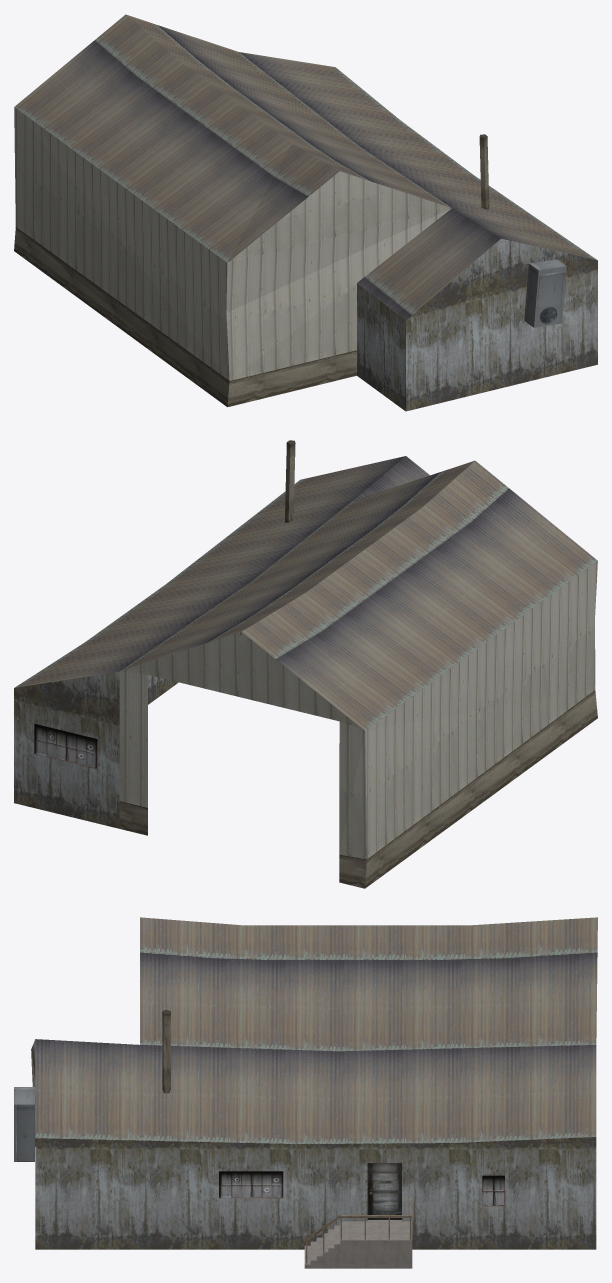
Rendered from cxf_payspray_.obj.
The picture shows the model from 3 angles, top to bottom: view 1: azimuth 30°, elevation 25°; view 2: azimuth 150°, elevation 25°; view 3: azimuth 270°, elevation 25°; orthographic projection. The views are drawn at different scales.
Visible parts, largest first — view 1: cxf_payspray_; view 2: cxf_payspray_; view 3: cxf_payspray_.
Boxes of the visible parts, left/top/right/bottom form: cxf_payspray_: left=14, top=14, right=597, bottom=411; cxf_payspray_: left=14, top=440, right=597, bottom=888; cxf_payspray_: left=14, top=917, right=597, bottom=1268.
Bounding box in the file's own units: 14.78 × 8.24 × 19.54.
9 materials, 9 textured.
